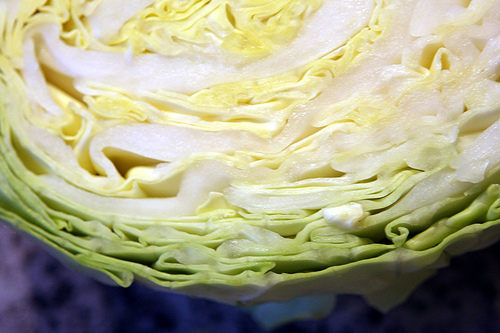cabbage: (0, 0, 499, 312)
